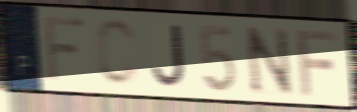5: (198, 23, 238, 95)
C: (94, 17, 142, 89)
F: (294, 26, 340, 99), (42, 13, 88, 85)
J: (150, 23, 189, 90)
N: (242, 23, 296, 97)
